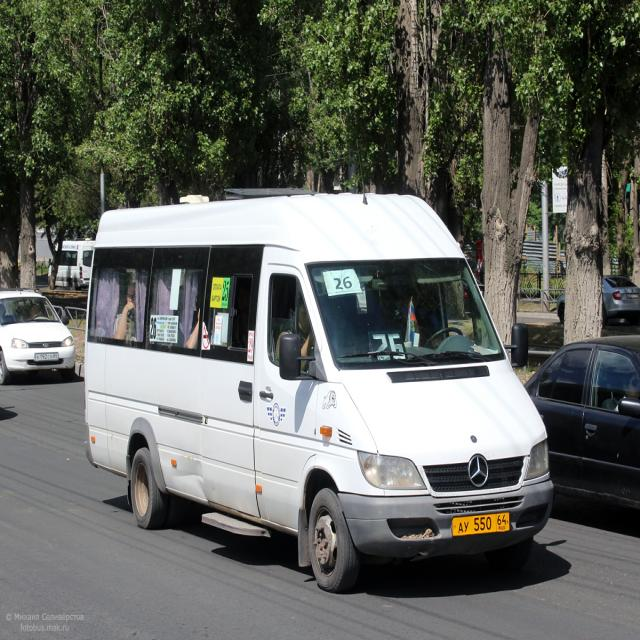number-of-bus: (372, 333, 408, 361), (326, 272, 359, 296)
